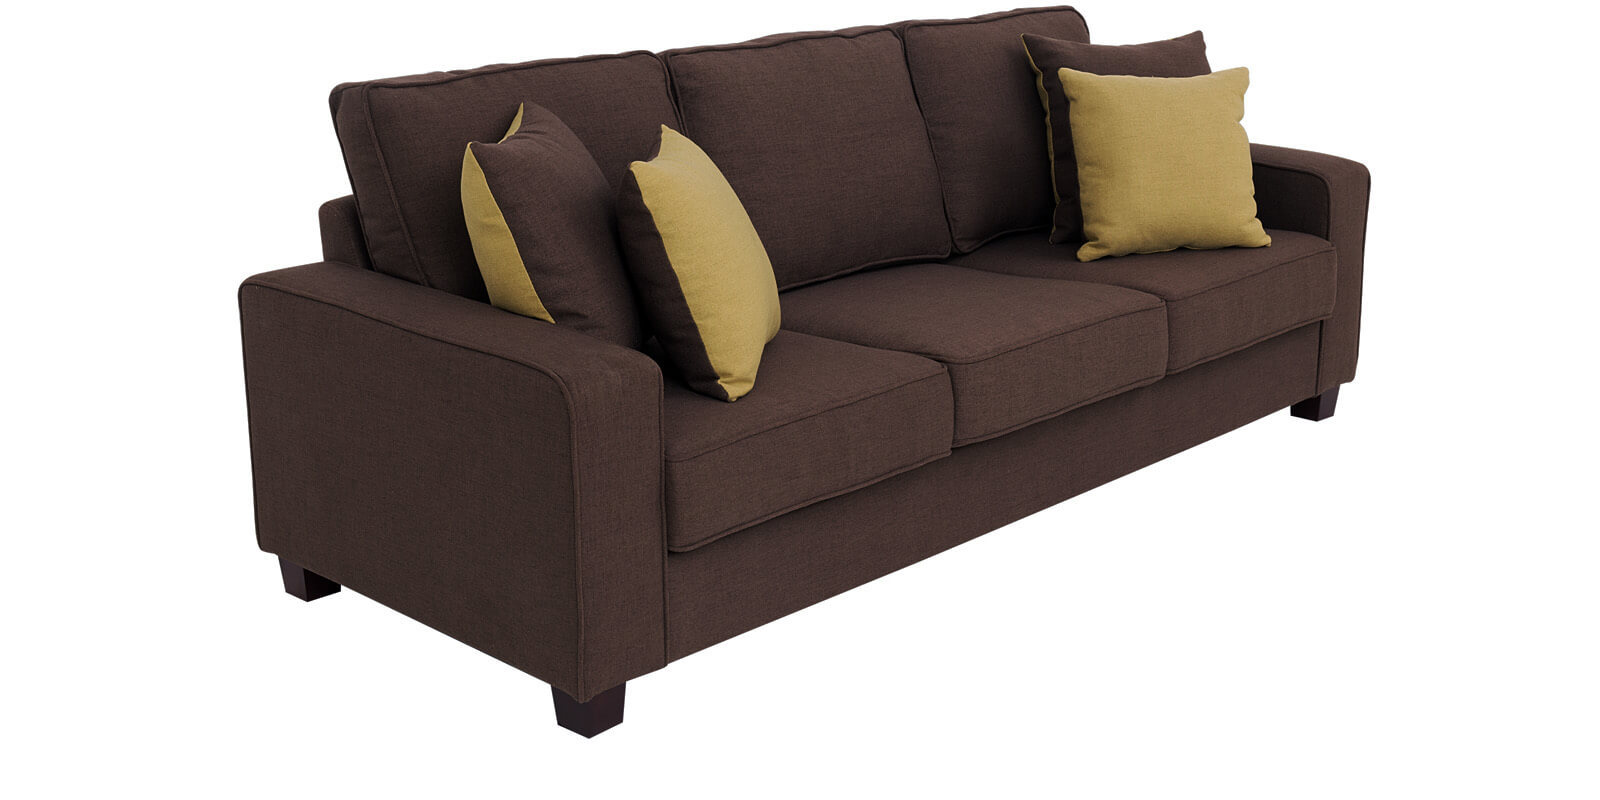Castilla Three Seater Sofa in Brown Colour by CasaCraft: (216, 19, 1376, 713)
